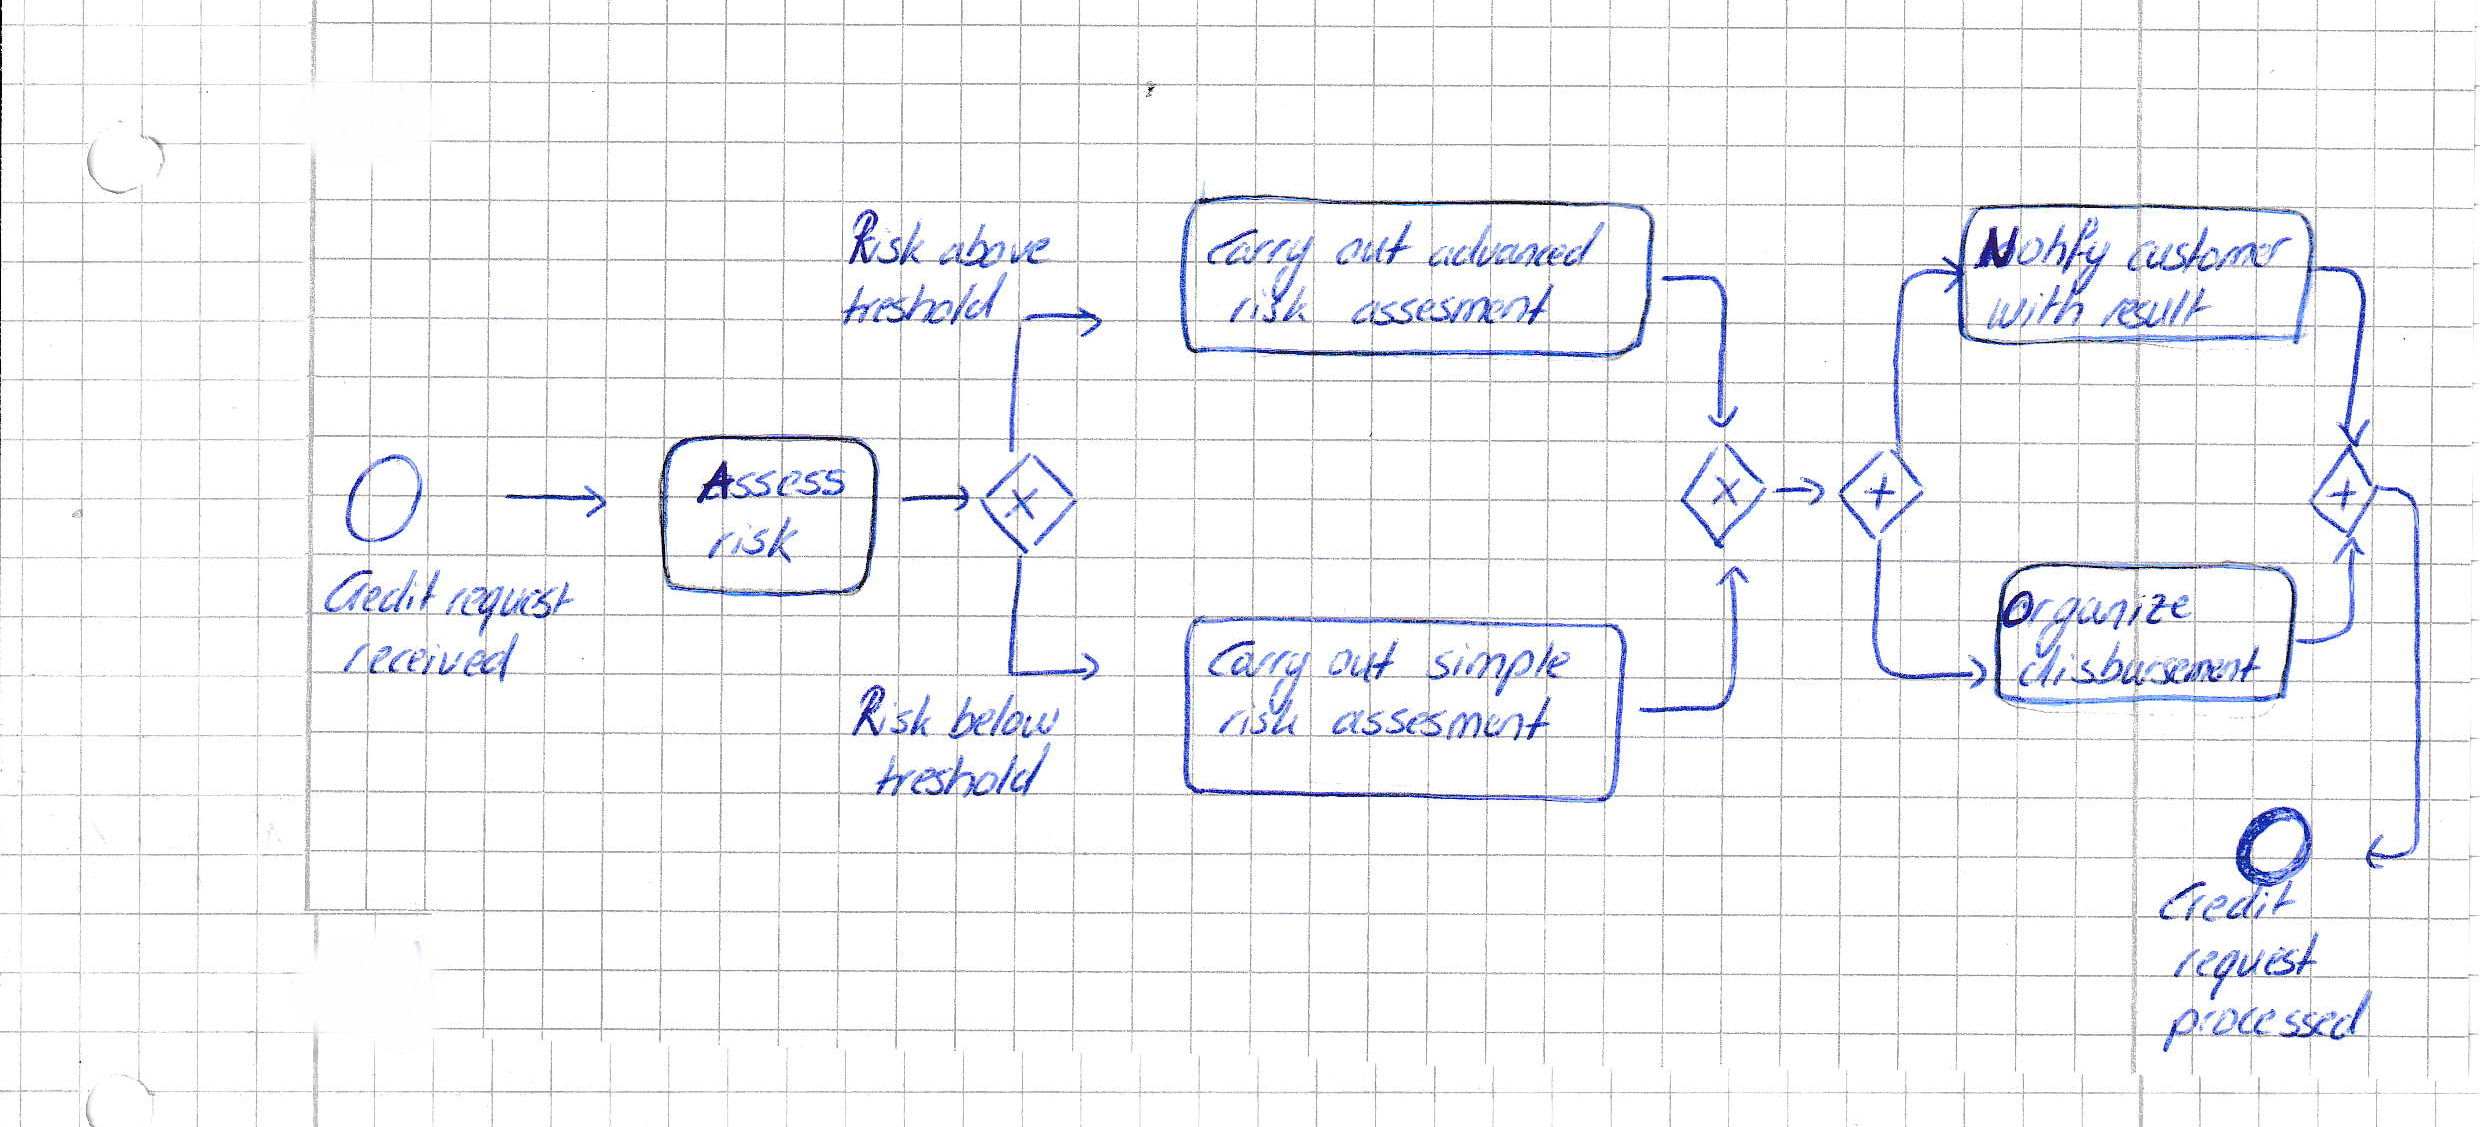Assess: (686, 454, 856, 512)
Carry: (1196, 220, 1321, 308), (1199, 631, 1317, 721)
Credit: (2149, 873, 2304, 929), (315, 560, 451, 623)
Notify: (1966, 210, 2119, 303)
Organize: (1993, 580, 2198, 665)
Risk: (841, 677, 941, 748), (838, 202, 936, 273)
above: (928, 215, 1061, 275)
advanced: (1419, 213, 1613, 277)
assesment: (1322, 688, 1558, 749), (1341, 273, 1563, 334)
below: (939, 684, 1068, 748)
customer: (2118, 217, 2300, 283)
disbursement: (2007, 632, 2270, 694)
out: (1325, 210, 1420, 273), (1317, 631, 1404, 689)
processed: (2153, 978, 2380, 1061)
received: (334, 626, 527, 692)
request: (2165, 925, 2328, 1008), (437, 571, 582, 643)
result: (2091, 280, 2219, 335)
risk: (699, 509, 807, 571), (1216, 277, 1321, 332), (1208, 688, 1306, 744)
simple: (1416, 631, 1578, 705)
treshold: (865, 735, 1058, 806), (830, 262, 1015, 334)
with: (1975, 272, 2092, 338)
